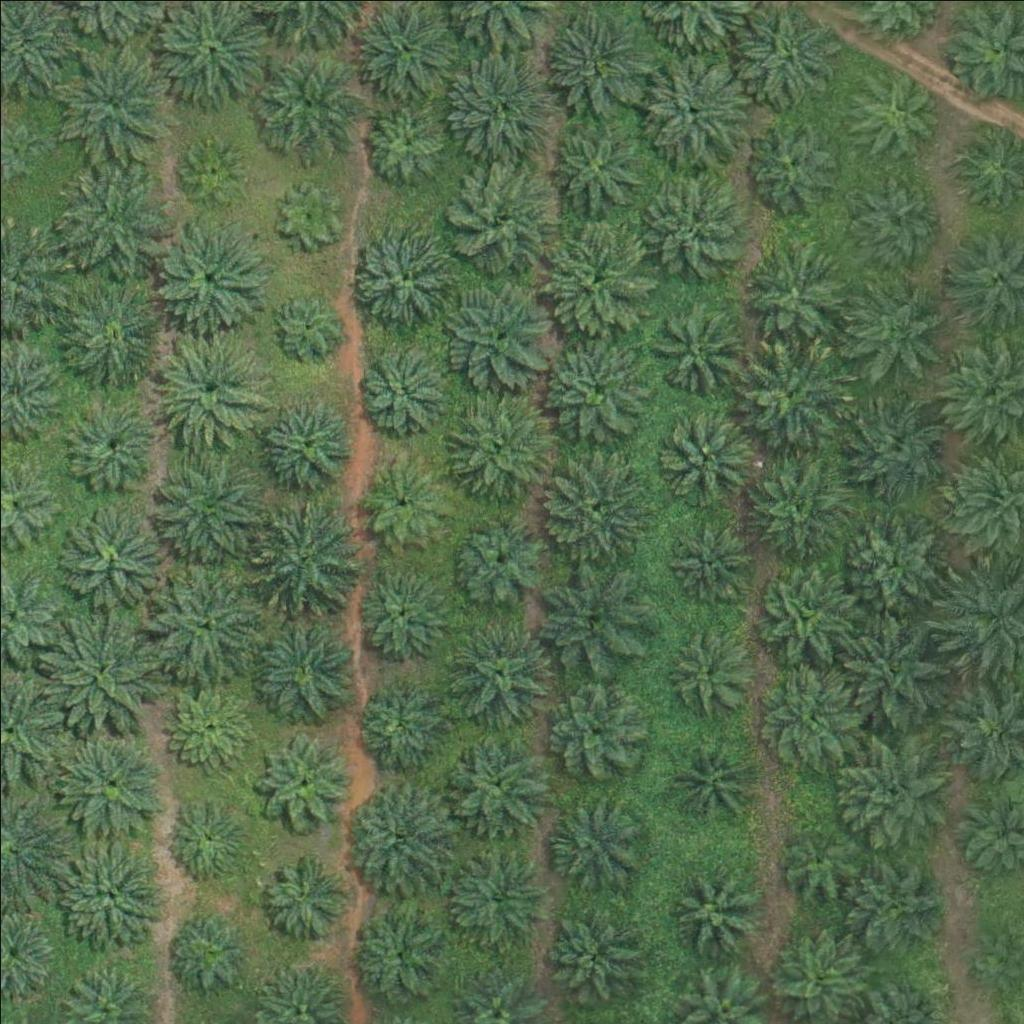Kelapa_Sawit: (440, 726, 553, 840), (340, 780, 453, 894), (243, 610, 356, 724), (251, 497, 364, 611), (834, 733, 947, 846), (534, 446, 647, 559), (539, 327, 652, 440), (245, 389, 358, 502), (153, 327, 266, 440), (54, 838, 167, 951), (53, 722, 166, 835), (60, 50, 173, 163), (151, 216, 264, 329), (446, 161, 559, 274), (442, 48, 555, 161), (541, 223, 654, 336), (539, 103, 652, 216), (146, 565, 258, 679), (149, 453, 261, 567), (52, 385, 164, 499), (55, 273, 167, 387), (634, 52, 746, 166), (838, 267, 950, 381), (835, 609, 947, 722), (838, 391, 950, 504), (734, 439, 846, 552), (535, 567, 647, 680), (442, 620, 554, 733), (445, 389, 557, 502), (45, 616, 157, 729), (51, 503, 163, 616), (52, 161, 164, 274), (251, 44, 363, 157), (343, 217, 455, 330), (443, 276, 555, 389), (539, 1, 651, 114), (633, 169, 745, 282), (737, 335, 849, 448), (839, 849, 939, 950), (840, 508, 940, 609), (751, 663, 851, 764), (753, 566, 853, 667), (661, 724, 761, 825), (654, 406, 754, 507), (545, 683, 645, 784), (448, 512, 548, 613), (648, 297, 748, 398), (542, 905, 642, 1005), (537, 797, 637, 897), (445, 849, 545, 949), (351, 675, 451, 775), (351, 561, 451, 661), (254, 729, 354, 829), (745, 239, 845, 339), (744, 109, 844, 209), (845, 66, 945, 166), (358, 341, 446, 429), (259, 850, 347, 938), (161, 796, 249, 884), (164, 682, 252, 770), (361, 101, 449, 189), (664, 515, 751, 604), (354, 911, 441, 999), (661, 629, 748, 717), (359, 457, 446, 545), (164, 908, 251, 996), (856, 170, 943, 258), (672, 868, 747, 944), (777, 824, 852, 899), (180, 139, 243, 202), (272, 293, 335, 356), (277, 182, 340, 245), (970, 942, 1020, 993)
